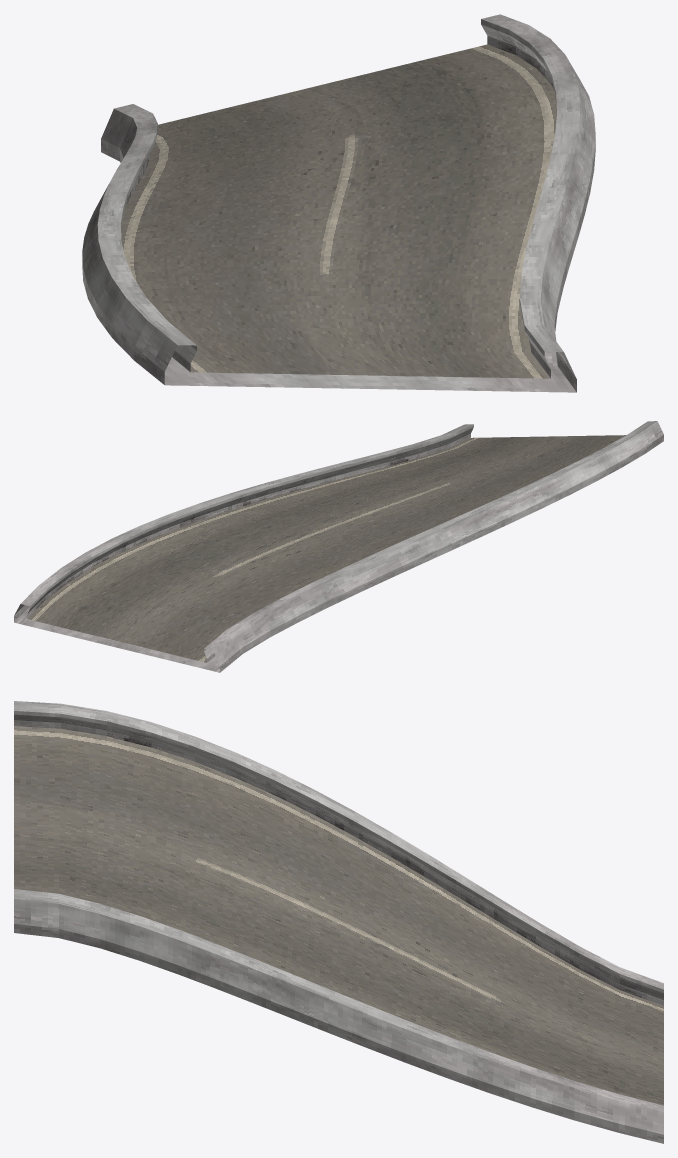
File: chicane-right1x2.glb
3 renders of one model, top to bottom at view 1: azimuth 30°, elevation 25°; view 2: azimuth 150°, elevation 25°; view 3: azimuth 270°, elevation 25°, orthographic. The views are drawn at different scales.
Visible parts, largest first — view 1: road-Chicane-HalfBankedRight-BiSlopeDown-Down1-Right1-Size2; view 2: road-Chicane-HalfBankedRight-BiSlopeDown-Down1-Right1-Size2; view 3: road-Chicane-HalfBankedRight-BiSlopeDown-Down1-Right1-Size2.
Boxes of the visible parts, box(x1,y1,x2,y2) form: road-Chicane-HalfBankedRight-BiSlopeDown-Down1-Right1-Size2: box(82, 14, 595, 392); road-Chicane-HalfBankedRight-BiSlopeDown-Down1-Right1-Size2: box(14, 421, 663, 672); road-Chicane-HalfBankedRight-BiSlopeDown-Down1-Right1-Size2: box(14, 701, 663, 1143).
Bounding box in the file's own units: 2 × 0.5859 × 2.
Materials: 2 (2 with a texture image).
